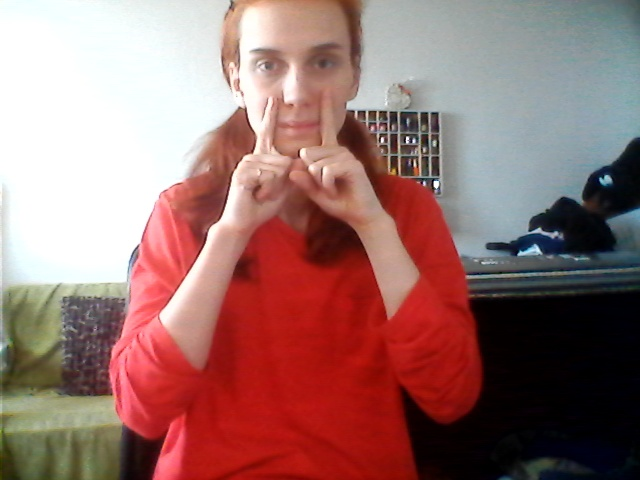h: (232, 93, 376, 216)
